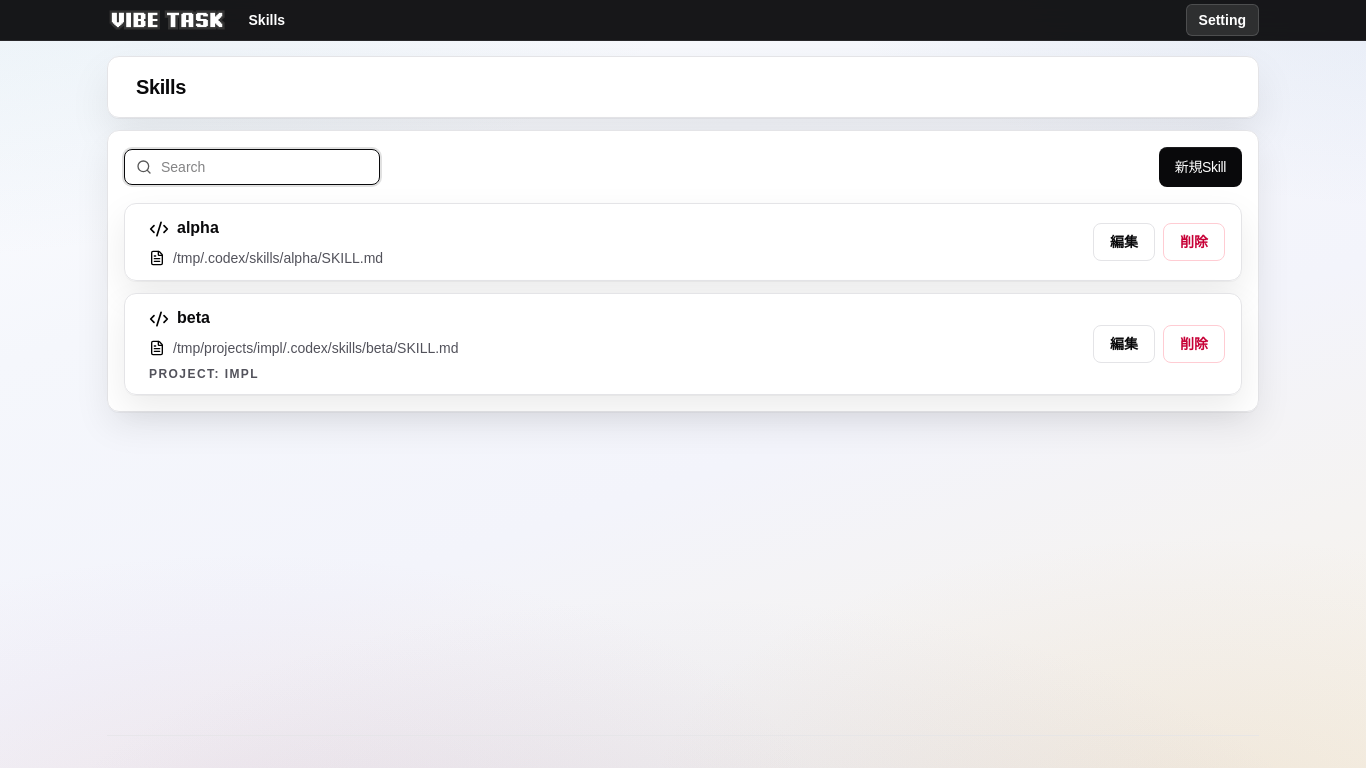
Test: filters skills by search query
The width and height of the screenshot is (1366, 768).
Check: the text "alpha" is shown, box [177, 216, 219, 240]
Check: the text "beta" is shown, box [177, 306, 210, 330]
In the search field labelled "Search": (252, 167) [124, 149, 380, 185], type "alp"
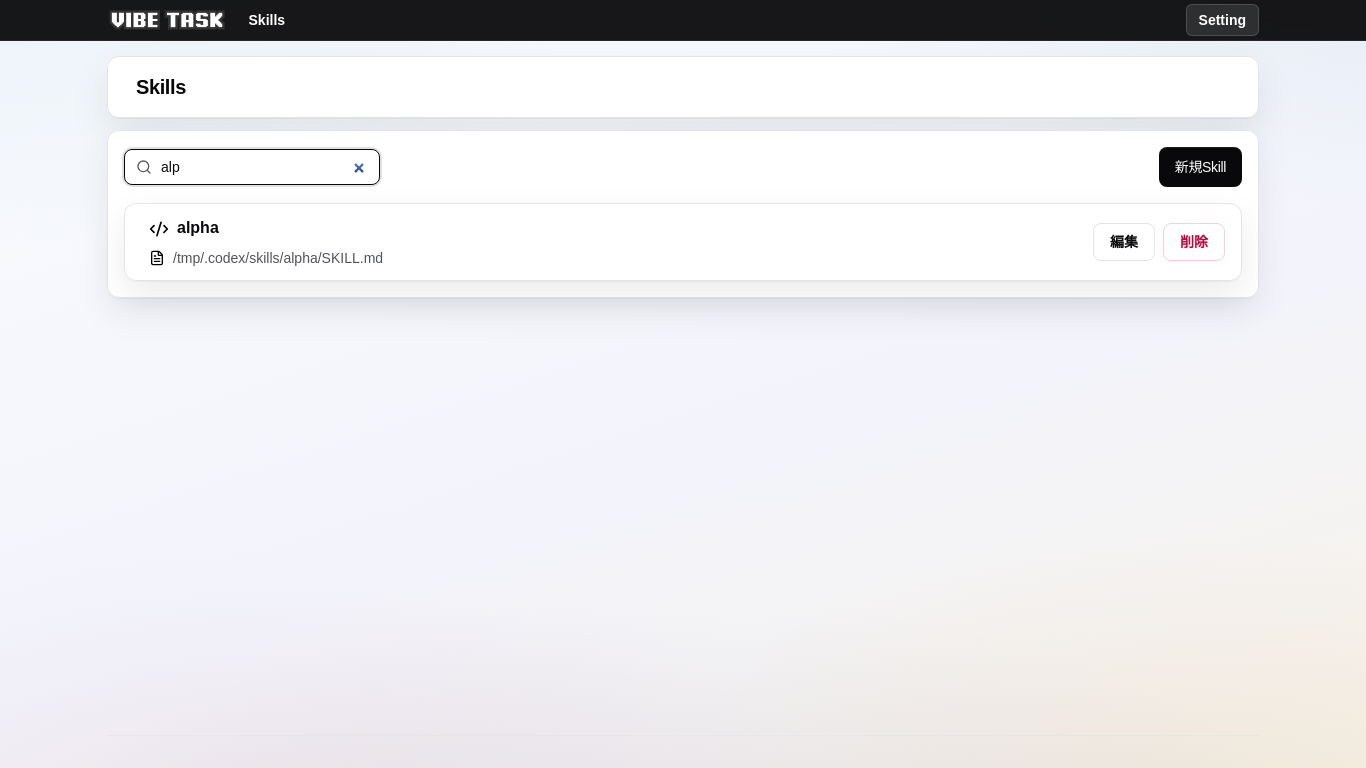
Check: the text "alpha" is shown, box [177, 216, 219, 240]
Check: the button "beta" is gone
Replace the text in the search field named "Search" with "/tmp/projects/impl": (252, 167) [124, 149, 380, 185]
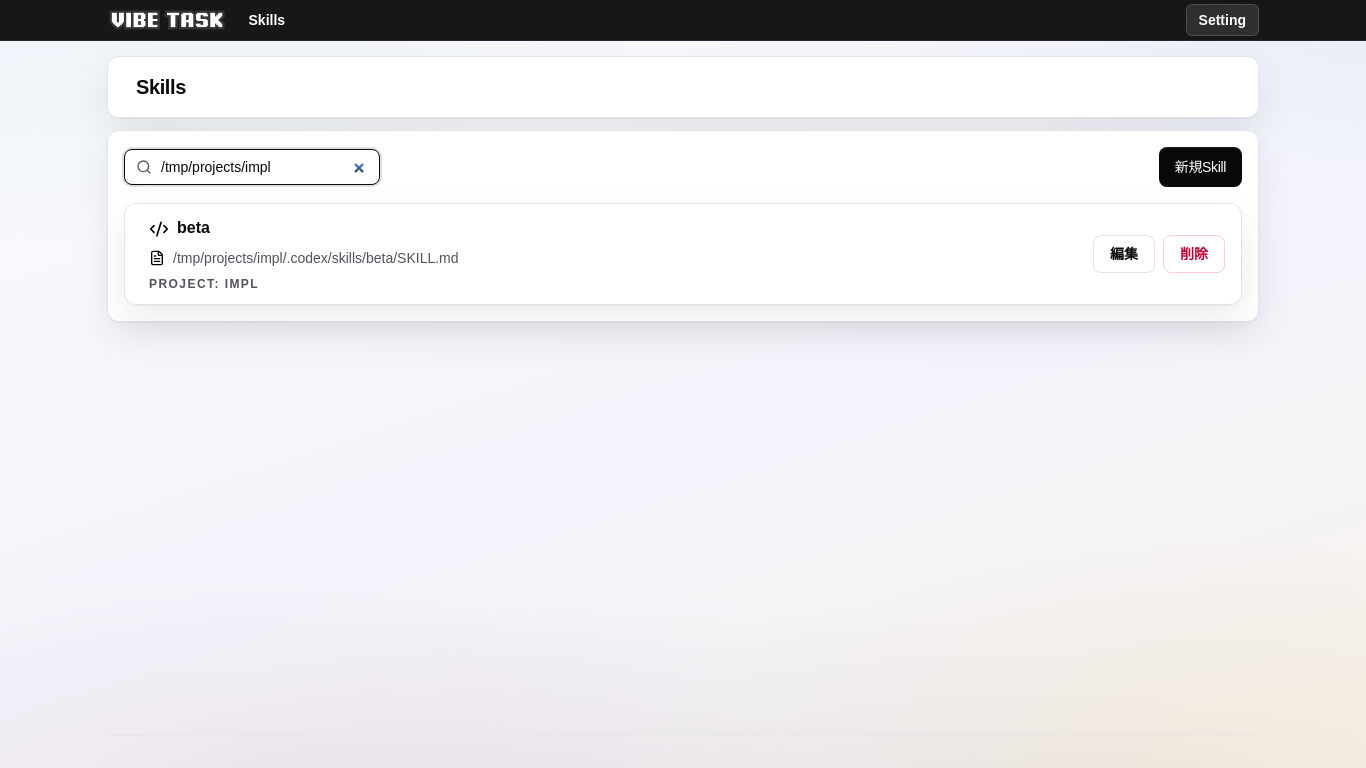
Check: the text "beta" is shown, box [177, 216, 210, 240]
Check: the button "alpha" is gone
Replace the text in the search field named "Search" with "impl": (252, 167) [124, 149, 380, 185]
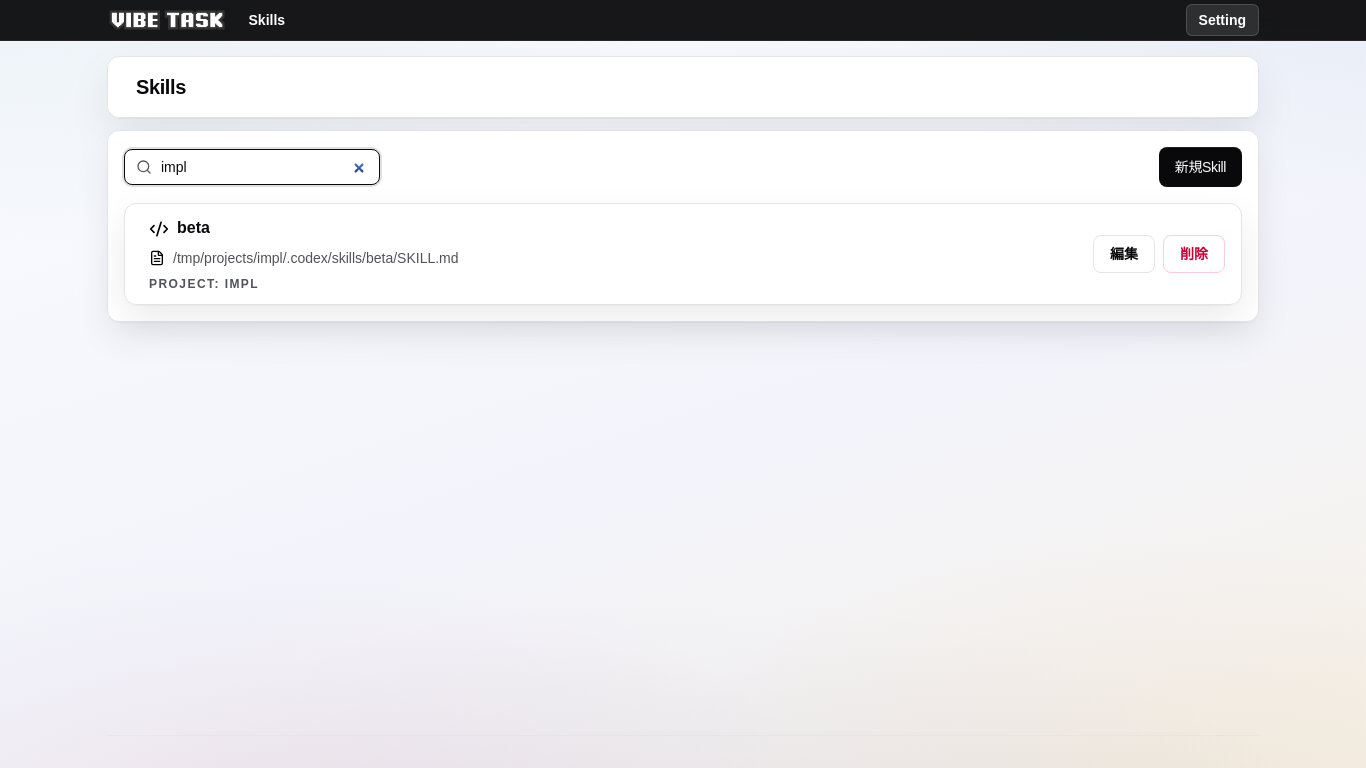
Check: the button "alpha" is not shown
Check: the text "beta" is shown, box [177, 216, 210, 240]
Replace the text in the search field named "Search" with "not-found": (252, 167) [124, 149, 380, 185]
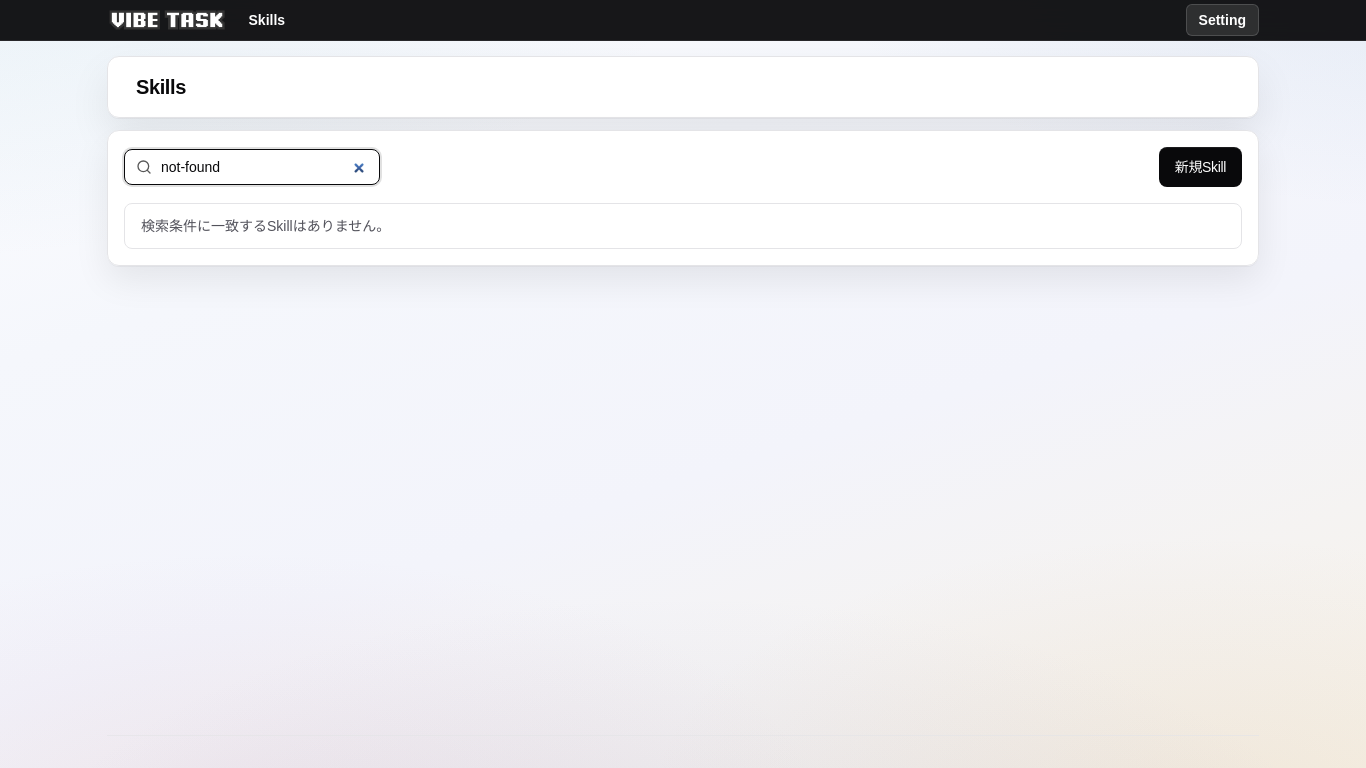
Check: the text "検索条件に一致するSkillはありません。" is shown, box [124, 203, 1242, 249]
Clear the search field named "Search": (252, 167) [124, 149, 380, 185]
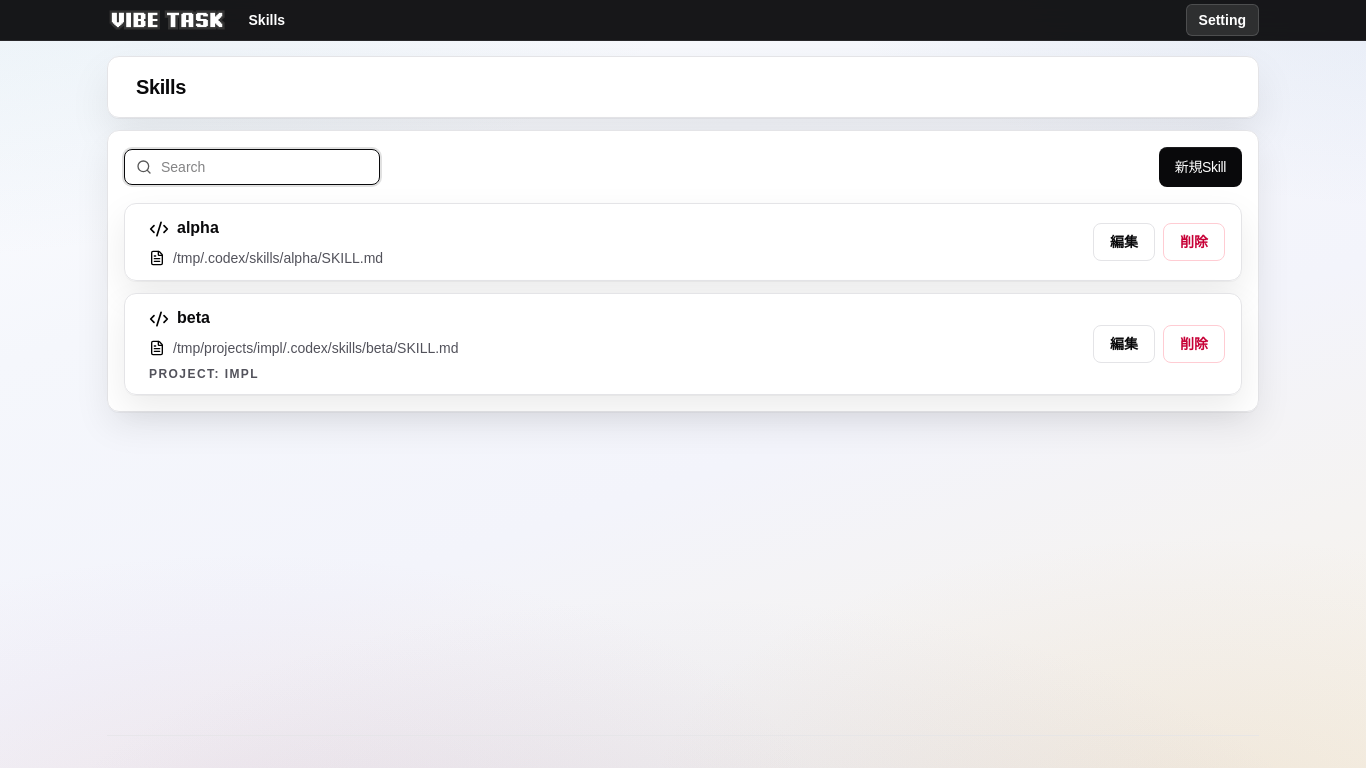
Check: the text "alpha" is shown, box [177, 216, 219, 240]
Check: the text "beta" is shown, box [177, 306, 210, 330]
